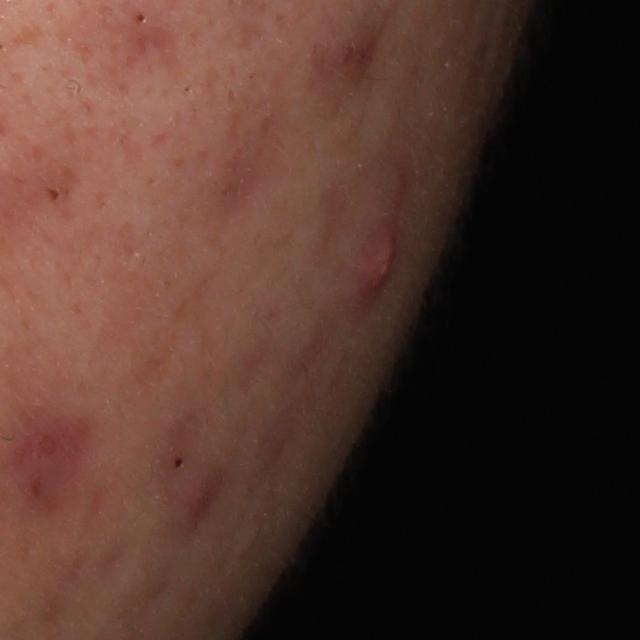comedo: (169, 449, 195, 477), (45, 187, 64, 206), (131, 7, 147, 26)
papule: (176, 472, 225, 522)
